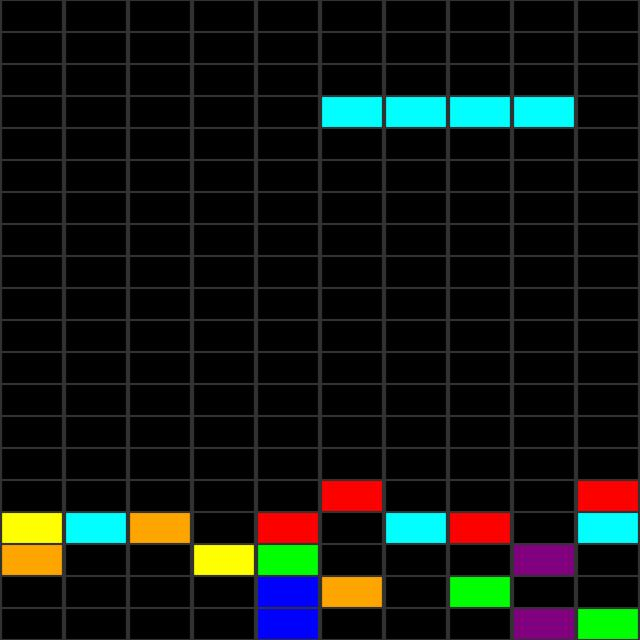Tetrimino_Z: (322, 96, 576, 126)
